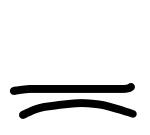eqv: (10, 83, 137, 118)
